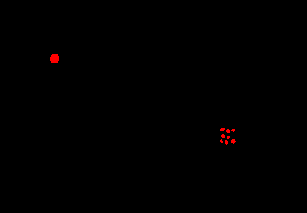Target: (50, 54, 59, 63), (231, 139, 236, 144), (226, 129, 230, 133), (221, 134, 225, 138), (220, 128, 225, 131), (225, 140, 228, 145), (231, 129, 235, 132), (220, 139, 223, 143), (227, 136, 230, 139)
